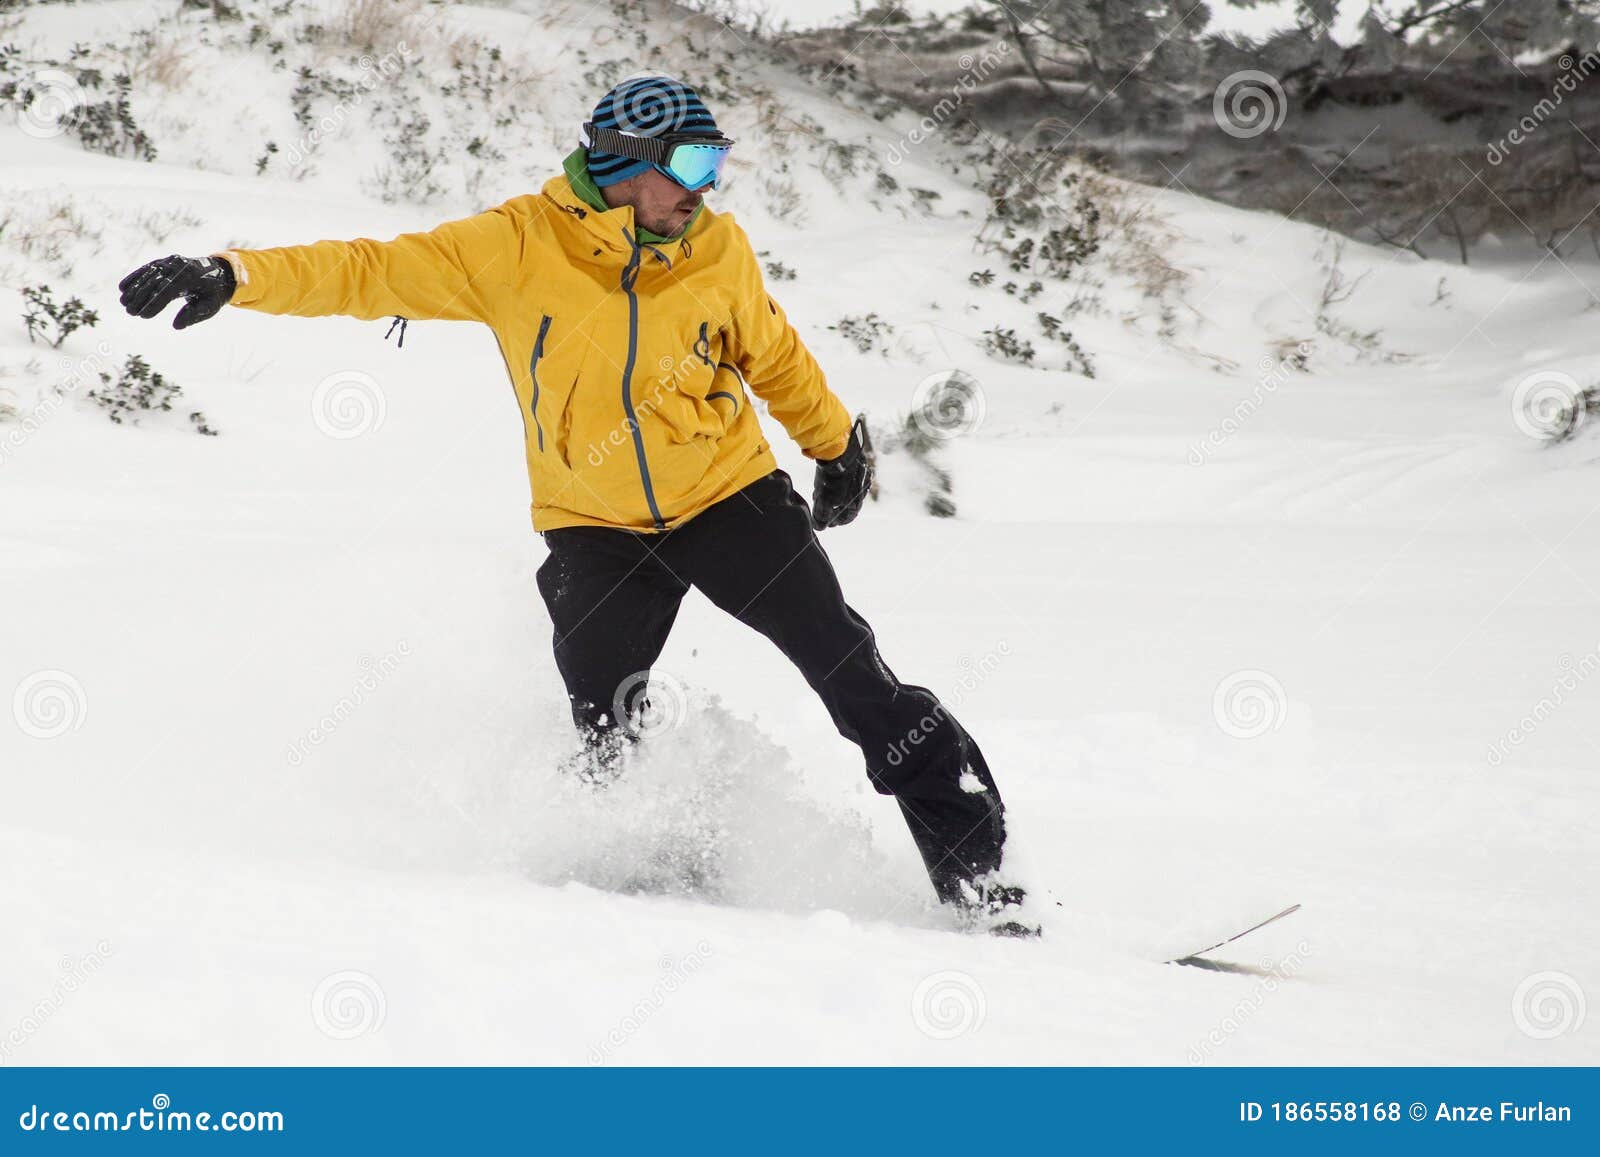snowboarder: (108, 66, 1368, 1005)
